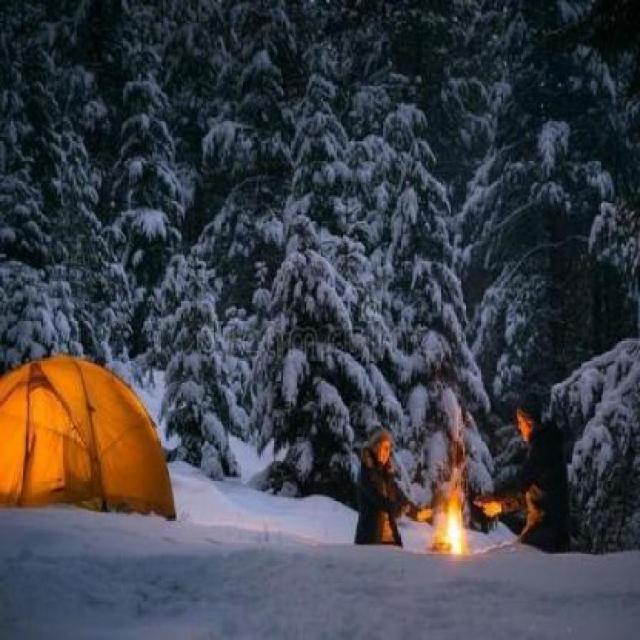Fire: (416, 466, 474, 556)
